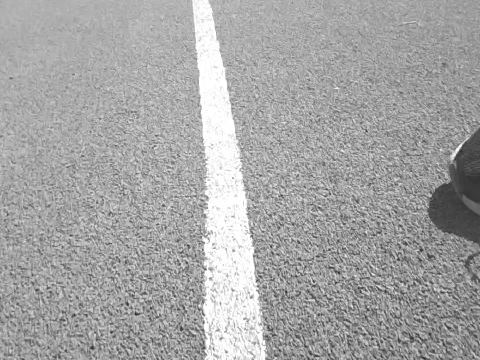Lines: (192, 0, 270, 360)
